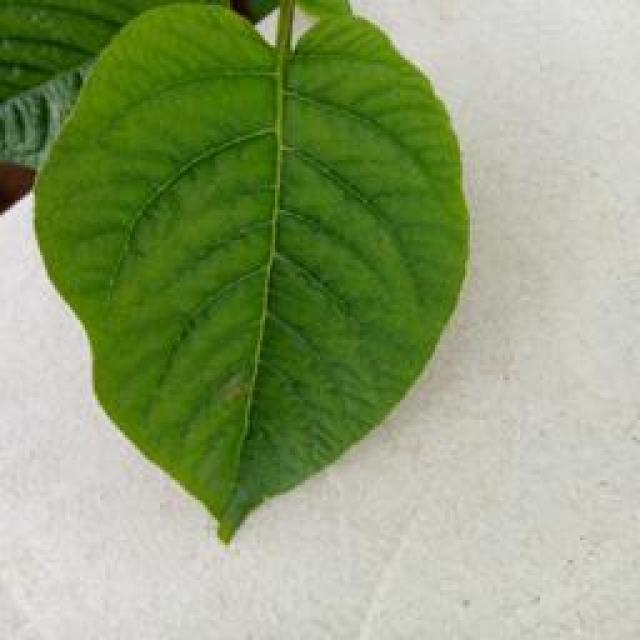healthy: (27, 0, 475, 545)
